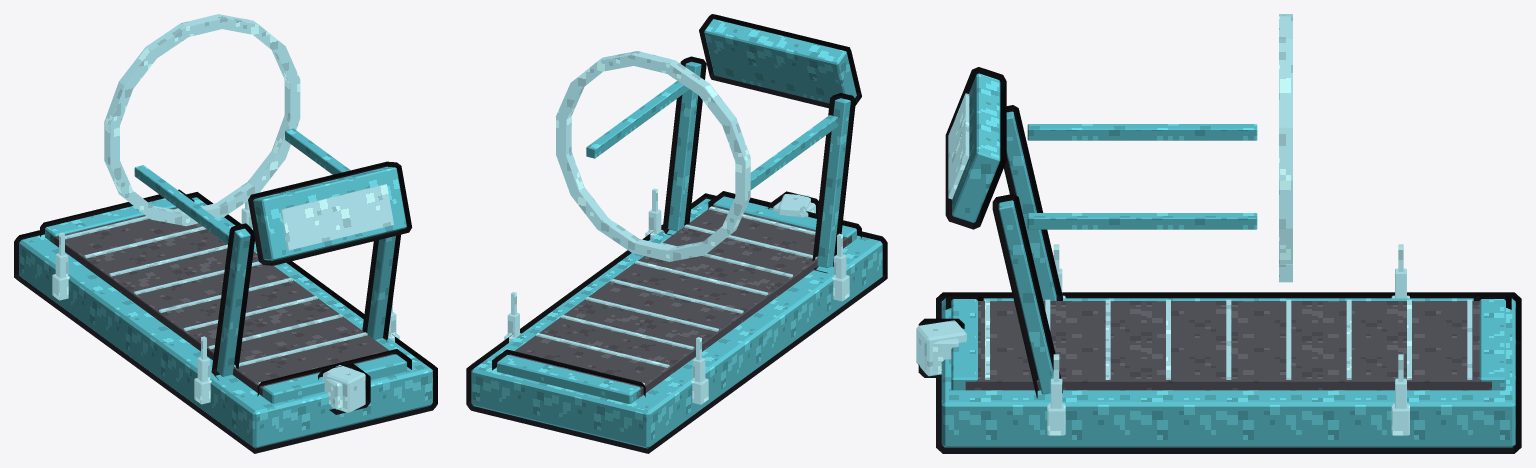
Rendered from treadmill_11.glb.
The picture shows the model from 3 angles, left to right: view 1: azimuth 30°, elevation 25°; view 2: azimuth 150°, elevation 25°; view 3: azimuth 270°, elevation 25°; orthographic projection. The views are drawn at different scales.
Visible parts, largest first — view 1: model; view 2: model; view 3: model.
Boxes of the visible parts, bbox=[...] form: model: bbox=[14, 14, 437, 453]; model: bbox=[466, 14, 887, 453]; model: bbox=[916, 14, 1521, 453].
Bounding box in the file's own units: 1.33 × 1.96 × 2.88.
4 materials, 3 textured.
